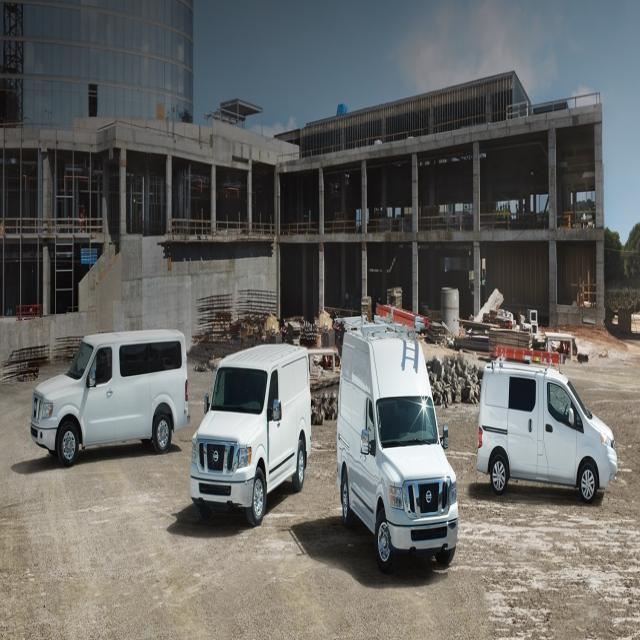truck: (336, 319, 458, 574), (190, 342, 312, 526), (30, 327, 190, 466), (476, 354, 618, 502)
